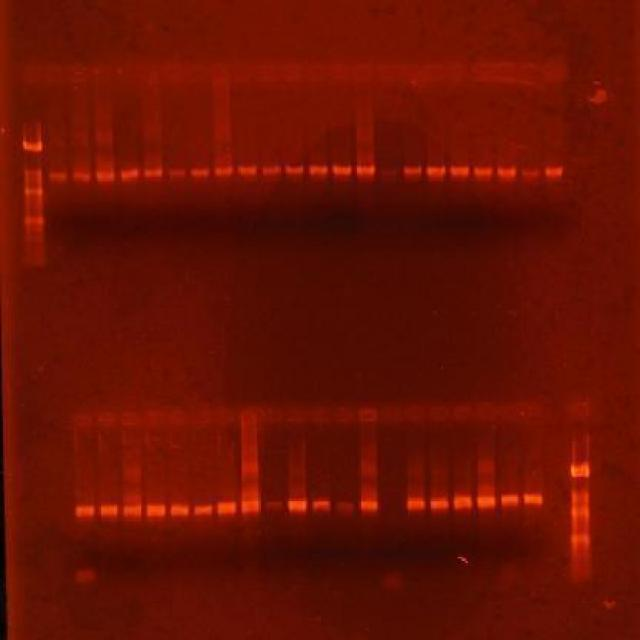B: (332, 496, 357, 518), (74, 564, 97, 584), (382, 572, 404, 592), (238, 498, 262, 516), (494, 162, 518, 180), (120, 502, 143, 520), (522, 490, 544, 508), (498, 490, 520, 508), (474, 492, 496, 510), (356, 462, 378, 480), (404, 494, 427, 511), (144, 502, 168, 518), (168, 502, 192, 518), (286, 496, 308, 513), (262, 497, 284, 514), (216, 499, 238, 516), (306, 160, 328, 177), (470, 164, 496, 178), (424, 164, 448, 179), (452, 494, 474, 510), (310, 498, 332, 514), (358, 498, 380, 514), (400, 162, 422, 178), (240, 459, 260, 476), (428, 496, 452, 510), (74, 503, 95, 519), (330, 161, 352, 176), (520, 164, 542, 179), (213, 164, 236, 178), (192, 503, 214, 517), (259, 162, 281, 176), (283, 162, 305, 176), (354, 162, 376, 176), (448, 164, 470, 178), (544, 164, 566, 178), (188, 166, 210, 180), (118, 166, 140, 180), (476, 459, 494, 476), (122, 468, 142, 483), (142, 166, 164, 179), (98, 504, 118, 518), (237, 162, 257, 176), (378, 164, 398, 178), (166, 166, 187, 179), (94, 169, 115, 182), (46, 170, 68, 182), (72, 170, 92, 182)
L: (59, 401, 602, 432), (16, 58, 576, 87)
M: (564, 433, 598, 590), (17, 112, 48, 276)
P: (569, 458, 591, 480), (570, 564, 593, 584), (568, 530, 592, 546), (21, 136, 44, 152), (569, 552, 594, 566), (570, 504, 590, 520), (570, 488, 590, 504), (22, 212, 44, 226), (23, 185, 43, 198), (22, 165, 42, 178)
Pc: (468, 59, 494, 82), (66, 60, 89, 86), (496, 60, 518, 86), (256, 58, 278, 84), (18, 58, 40, 84), (41, 60, 64, 84), (565, 402, 590, 424), (446, 60, 468, 85), (280, 60, 302, 85), (543, 402, 565, 427), (232, 60, 255, 83), (192, 404, 214, 428), (168, 404, 190, 428), (520, 402, 542, 426), (402, 60, 424, 84), (186, 60, 207, 85), (213, 406, 236, 428), (305, 60, 327, 83), (162, 60, 184, 83), (112, 61, 134, 84), (210, 60, 230, 85), (260, 404, 282, 426), (284, 405, 306, 427), (452, 402, 474, 424), (542, 60, 564, 82), (138, 62, 160, 84), (520, 60, 538, 86), (497, 404, 520, 424), (424, 61, 444, 84), (376, 60, 396, 83), (91, 61, 111, 84), (96, 408, 118, 428), (119, 408, 141, 428), (144, 408, 166, 428), (379, 404, 401, 424), (404, 404, 426, 424), (352, 62, 372, 84), (328, 61, 348, 82), (73, 408, 93, 428), (238, 407, 258, 427), (428, 403, 448, 423), (310, 407, 332, 425), (336, 406, 354, 426), (358, 406, 378, 424), (476, 404, 496, 422)
